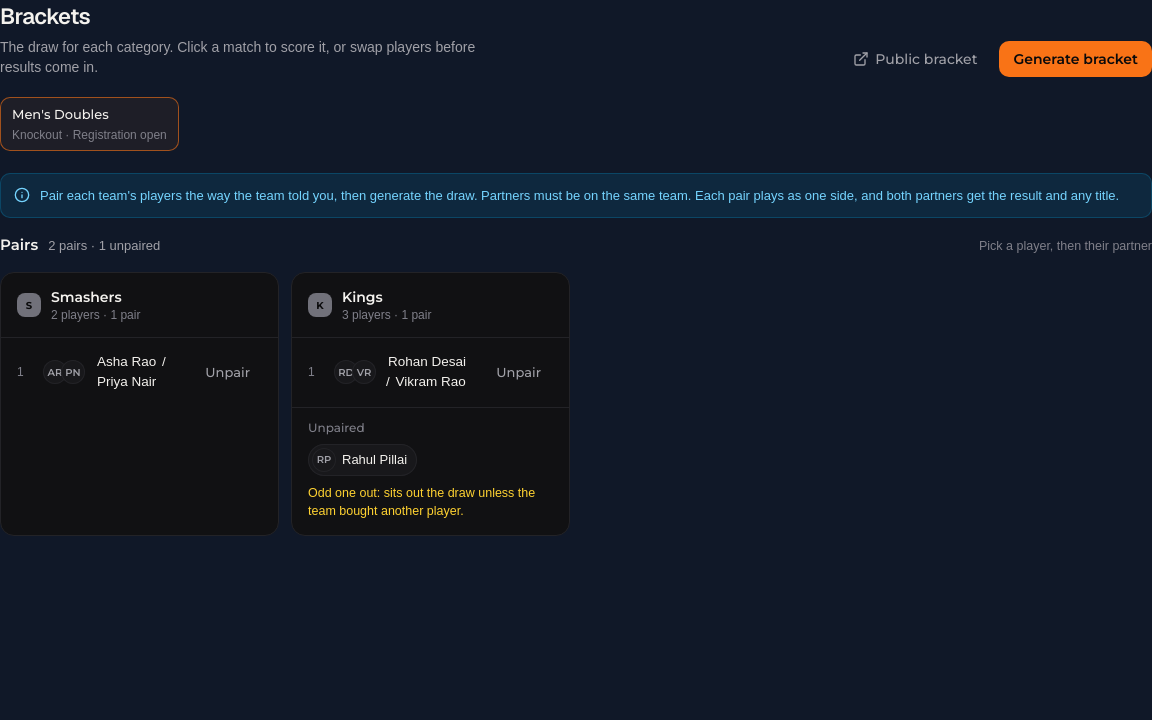
BracketManagementSection, doubles before the draw › names the unpaired players when asking to generate
Expected: the element "Smashers" is shown, [0,272,279,536]
Click the button "Generate bracket". click: click(1076, 59)
box: [1000,41,1151,77]
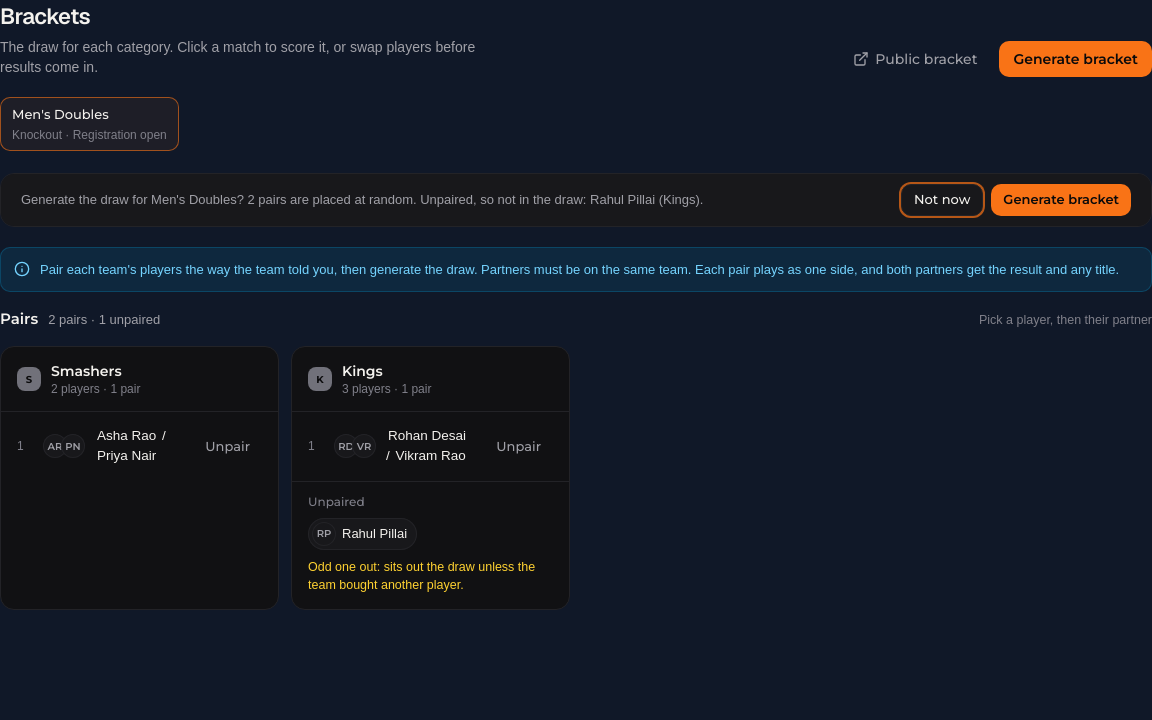
Now the text "Generate the draw for Men's Doubles? 2 pairs are placed at random. Unpaired, so not in the draw: Rahul Pillai (Kings)." is shown, box [21,192,704,207]
